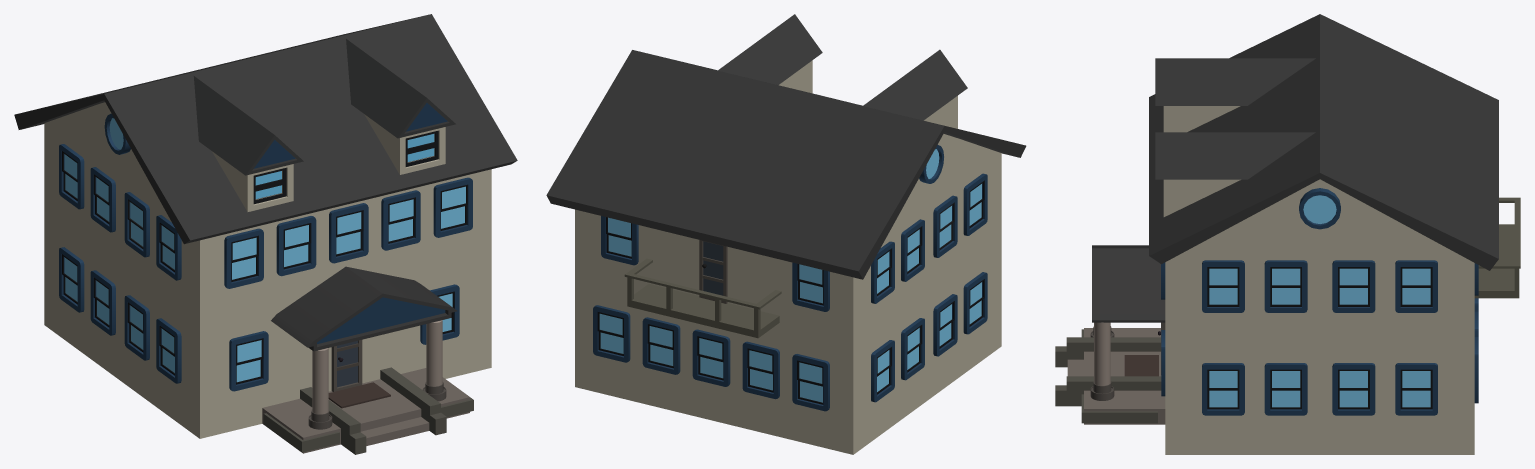
Rendered from PrairieGabledRoof1910.fbx.
3 views of the same model, side by side, from view 1: azimuth 30°, elevation 25°; view 2: azimuth 150°, elevation 25°; view 3: azimuth 270°, elevation 25° (orthographic). The views are drawn at different scales.
Parts seen in each view (by area): view 1: Cube.001; view 2: Cube.001; view 3: Cube.001.
Part boxes in pixels (<box>): Cube.001: <box>14,14,517,454</box>; Cube.001: <box>546,14,1026,454</box>; Cube.001: <box>1055,14,1520,454</box>.
Bounding box in the file's own units: 666 × 568 × 824.
